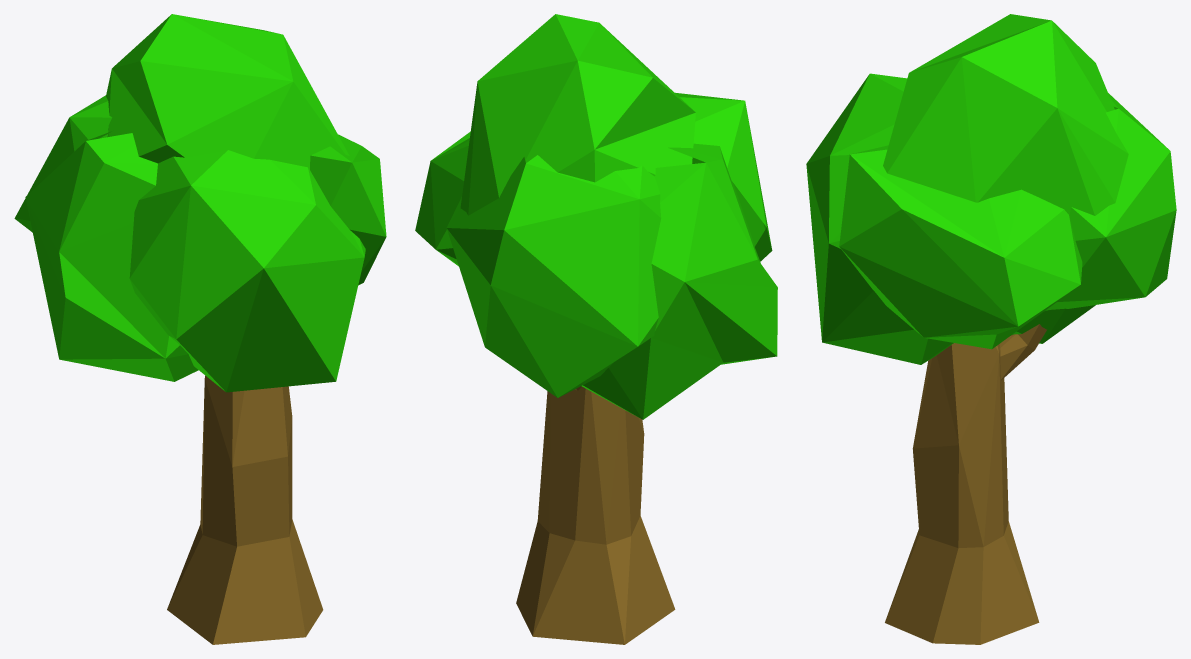
Rendered from Tree#2.fbx.
The picture shows the model from 3 angles, left to right: view 1: azimuth 30°, elevation 25°; view 2: azimuth 150°, elevation 25°; view 3: azimuth 270°, elevation 25°; orthographic projection. The views are drawn at different scales.
Parts seen in each view (by area): view 1: Tree#2; view 2: Tree#2; view 3: Tree#2.
Boxes of the visible parts, x1=… form: Tree#2: x1=14, y1=14, x2=386, y2=644; Tree#2: x1=415, y1=14, x2=777, y2=644; Tree#2: x1=806, y1=14, x2=1176, y2=644.
Size of the model in its own units: 423 by 710 by 413.
